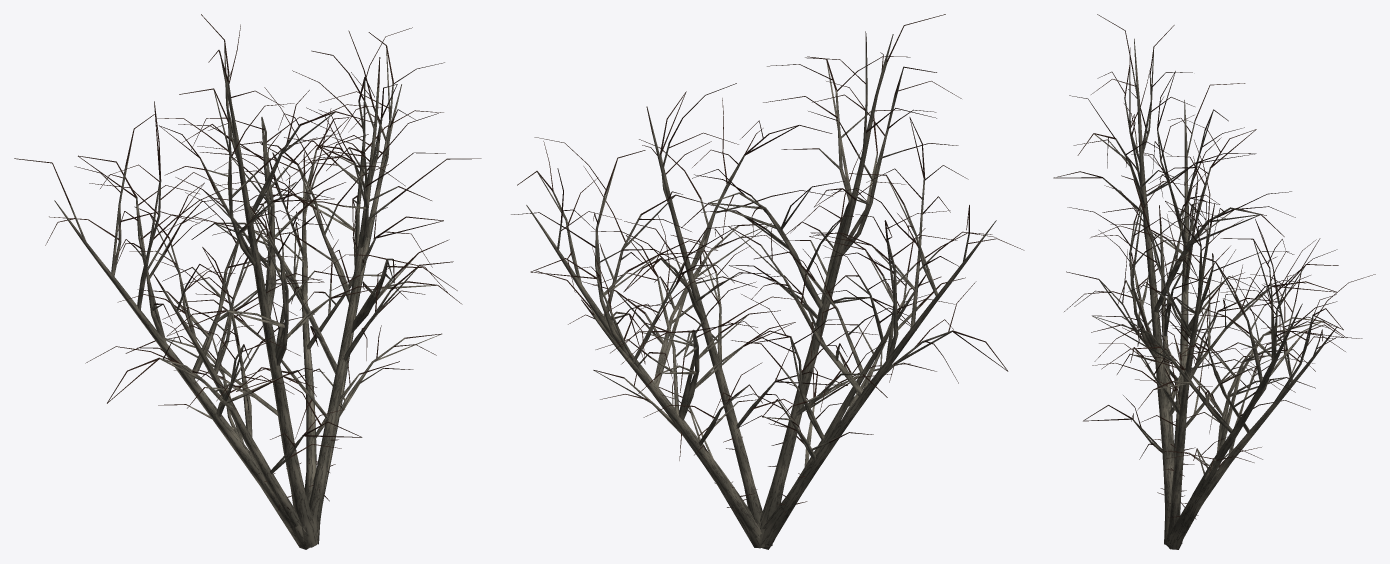
File: willow_wood.glb
3 views of the same model, side by side, from view 1: azimuth 30°, elevation 25°; view 2: azimuth 150°, elevation 25°; view 3: azimuth 270°, elevation 25° (orthographic). The views are drawn at different scales.
Visible parts, largest first — view 1: willow_a, willow_b, willow_a_l1, willow_b_l1, willow_a_l2, willow_b_l2; view 2: willow_a, willow_b, willow_a_l1, willow_b_l1, willow_a_l2, willow_b_l2; view 3: willow_a, willow_b, willow_a_l1, willow_b_l1, willow_a_l2, willow_b_l2.
Part boxes in pixels (bbox=[...]): willow_a: bbox=[14, 14, 461, 549]; willow_b: bbox=[85, 50, 481, 534]; willow_a_l1: bbox=[54, 14, 446, 545]; willow_b_l1: bbox=[107, 61, 452, 531]; willow_a_l2: bbox=[74, 58, 393, 547]; willow_b_l2: bbox=[165, 60, 379, 537]; willow_a: bbox=[511, 14, 1024, 549]; willow_b: bbox=[530, 83, 1008, 537]; willow_a_l1: bbox=[517, 34, 962, 546]; willow_b_l1: bbox=[531, 93, 1007, 522]; willow_a_l2: bbox=[547, 34, 996, 547]; willow_b_l2: bbox=[598, 111, 908, 538]; willow_a: bbox=[1053, 14, 1345, 549]; willow_b: bbox=[1064, 140, 1375, 545]; willow_a_l1: bbox=[1053, 27, 1343, 545]; willow_b_l1: bbox=[1083, 192, 1342, 535]; willow_a_l2: bbox=[1092, 103, 1322, 548]; willow_b_l2: bbox=[1160, 230, 1323, 541].
Size of the model in its own units: 10.63 by 12.21 by 7.46.
Materials: 2 (2 with a texture image).
